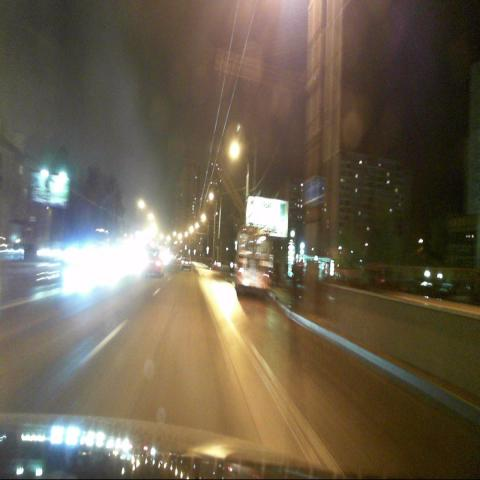6_6: (312, 177, 326, 204)
